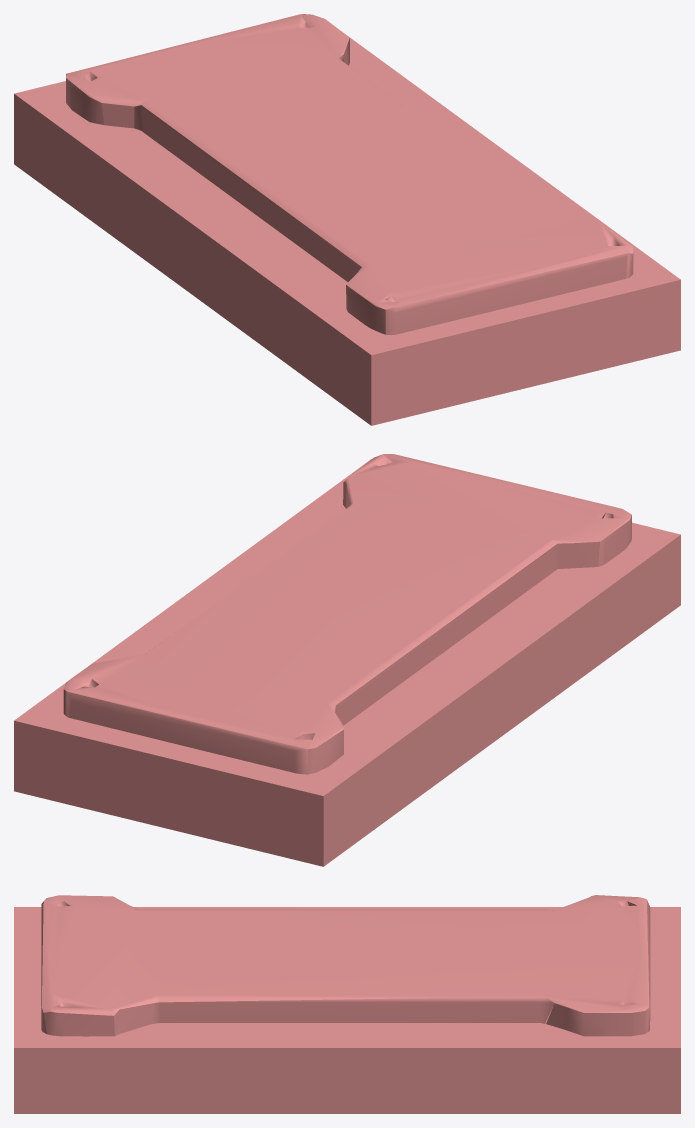
Rendered from ComplexWall_2x1_04_Final.fbx.
3 views of the same model, one above another, from view 1: azimuth 30°, elevation 25°; view 2: azimuth 150°, elevation 25°; view 3: azimuth 270°, elevation 25° (orthographic). The views are drawn at different scales.
Parts seen in each view (by area): view 1: Final_ComplexWall_2x1_04; view 2: Final_ComplexWall_2x1_04; view 3: Final_ComplexWall_2x1_04.
Part boxes in pixels (box(x1,y1,x2,y2)): Final_ComplexWall_2x1_04: box(14, 14, 680, 425); Final_ComplexWall_2x1_04: box(14, 454, 680, 866); Final_ComplexWall_2x1_04: box(14, 895, 680, 1113).
Size of the model in its own units: 100 by 30.24 by 200.
